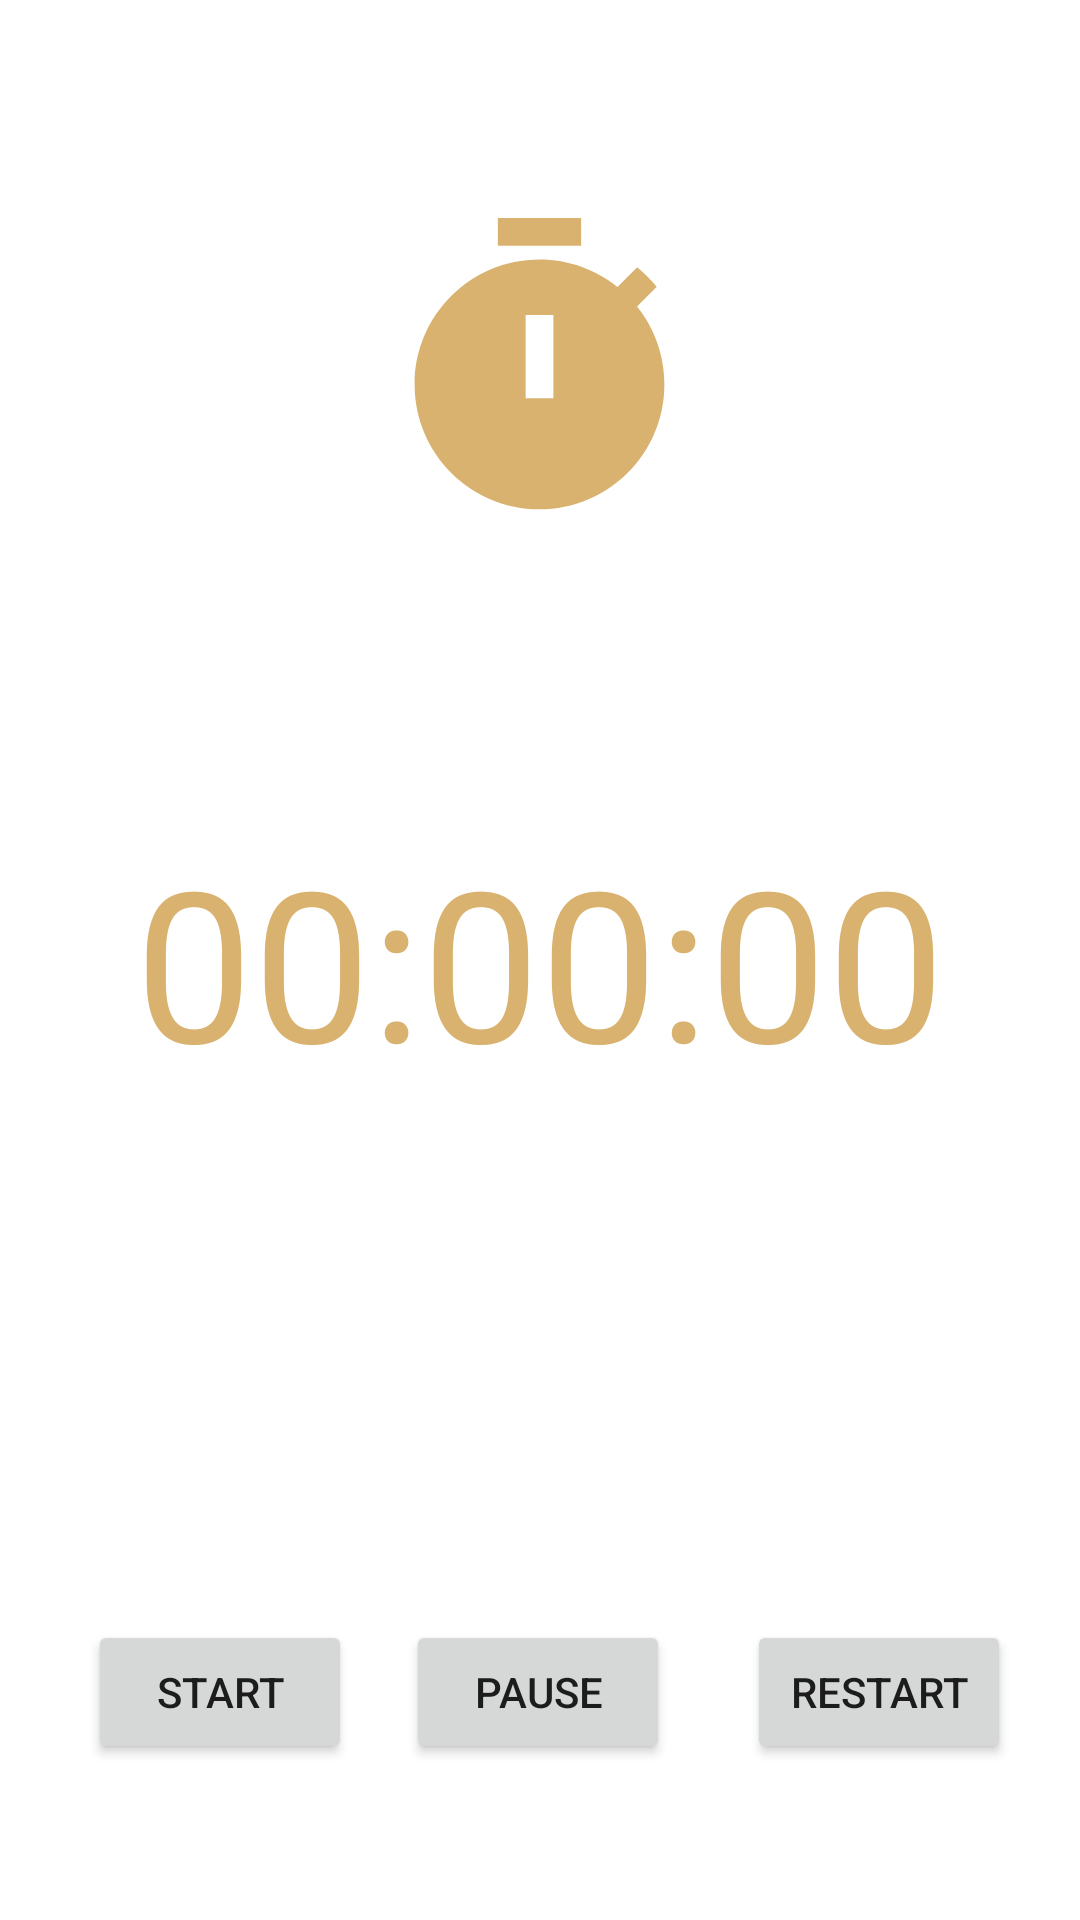

Icon click points for this 1080x1920 phone screenshot, format [x,y]:
timer: [539,364]
